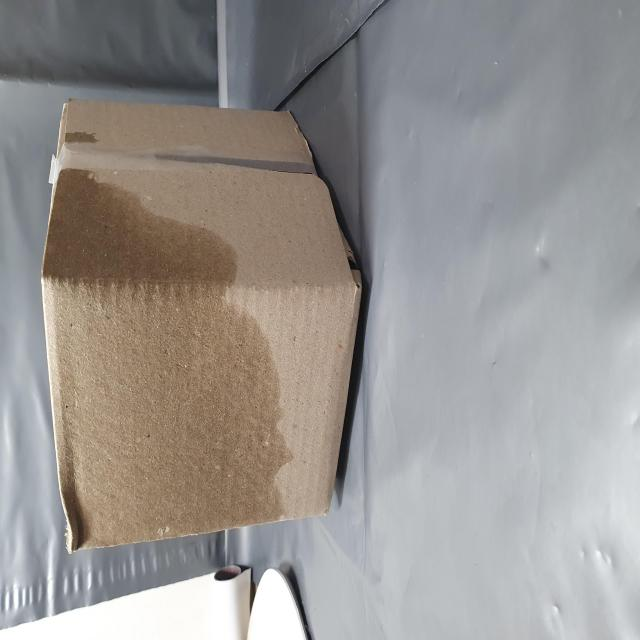wet: (55, 106, 265, 505)
